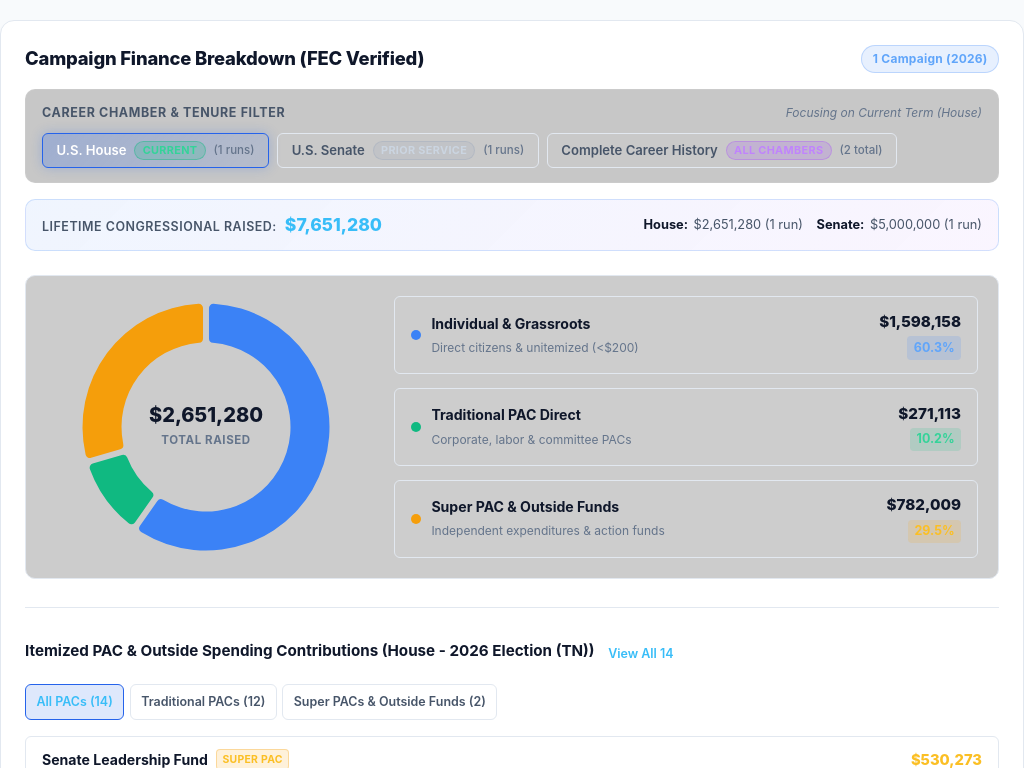
Test: FinanceChart Component › limits PAC listing to 10 items initially and provides expand option
The image size is (1024, 768).
Click the button "View All 14" at (641, 654), box [608, 636, 674, 672]
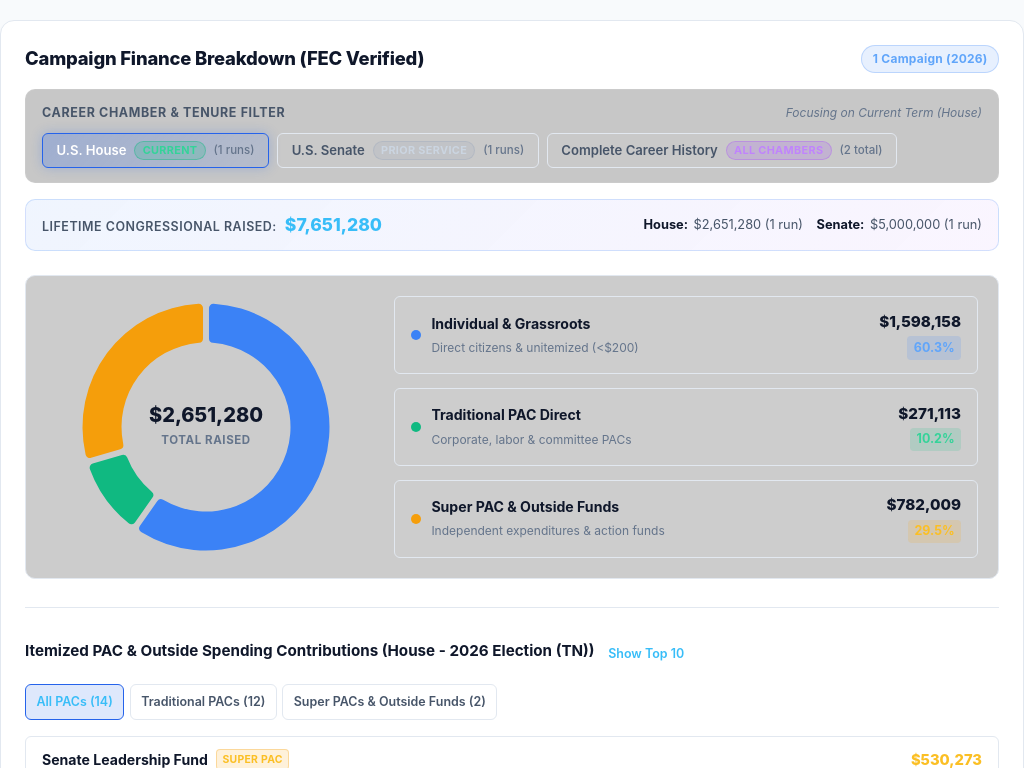
Result: the button "Show Top 10" is shown at [608, 636, 684, 672]
